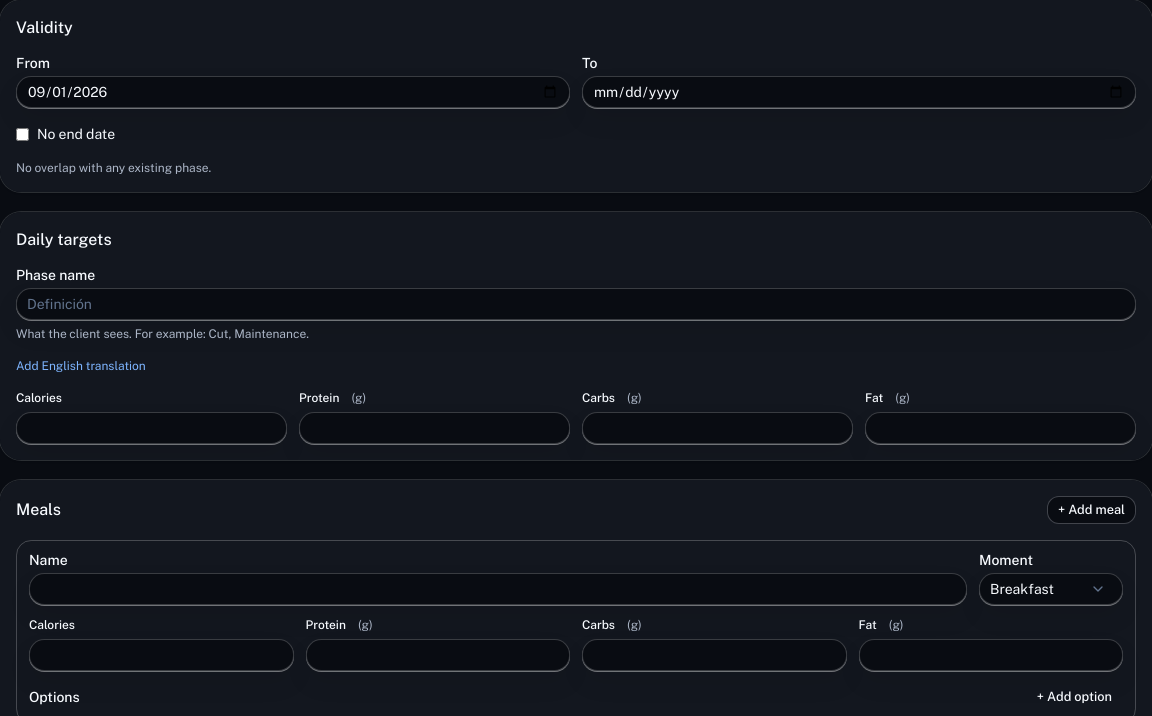
Scenario: AssignNutritionForm — macro kcal hint (#949) › adds up the macros with the 4/4/9 factors and flags a gap against the typed kcal
The width and height of the screenshot is (1152, 716).
Type "90" into the field labelled "Protein (g)" below "Phase name".
click(434, 428); type("90")  # box [299, 412, 570, 444]
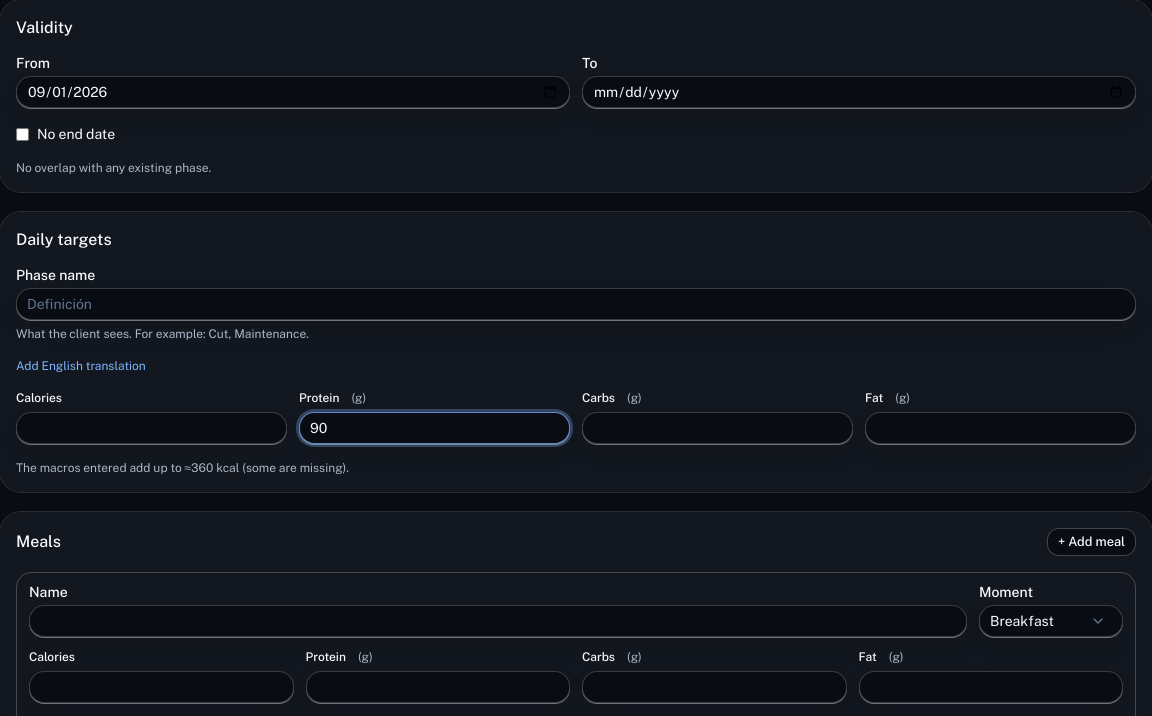
Type "280" into the 1st field labelled "Carbs (g)".
click(718, 428); type("280")  # box [582, 412, 853, 444]
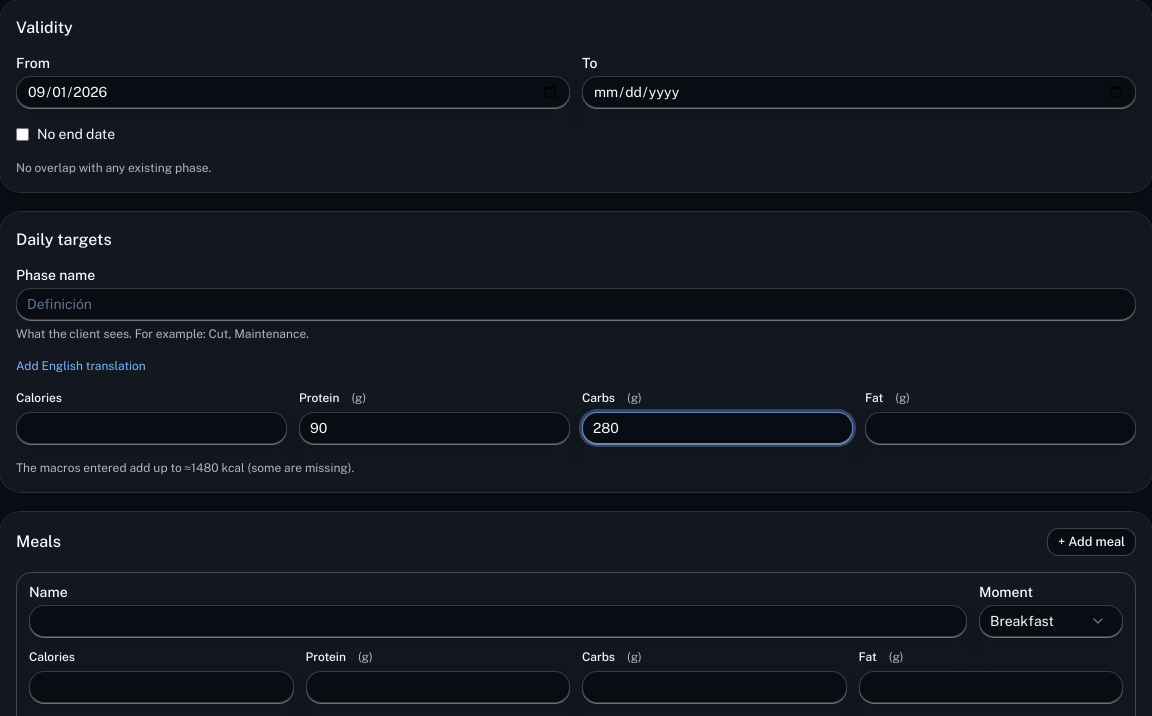
Type "100" into the 1st field labelled "Fat (g)".
click(1000, 428); type("100")  # box [865, 412, 1136, 444]
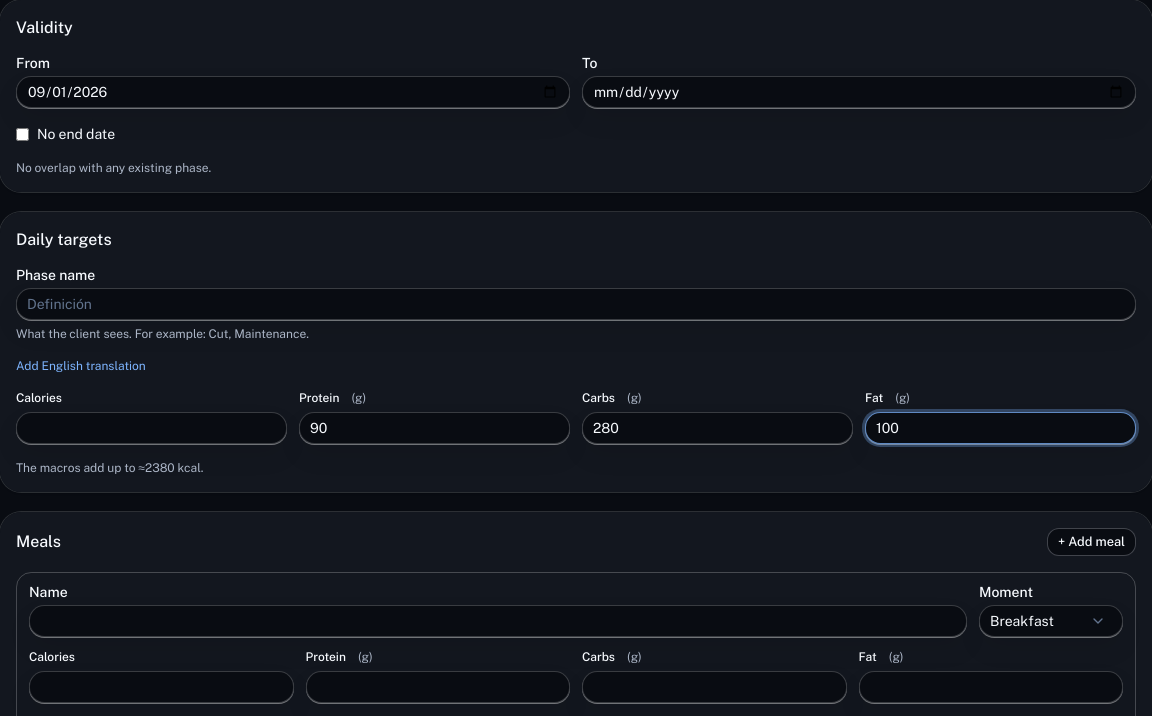
Expected: the text with test id "nutrition-daily-kcal-hint" shows "2380", [16, 461, 204, 475]
# 2 380 vs a typed 2 000 is 380 kcal apart — worth saying out loud.
Type "2000" into the field labelled "Calories" below "Phase name".
click(152, 428); type("2000")  # box [16, 412, 287, 444]
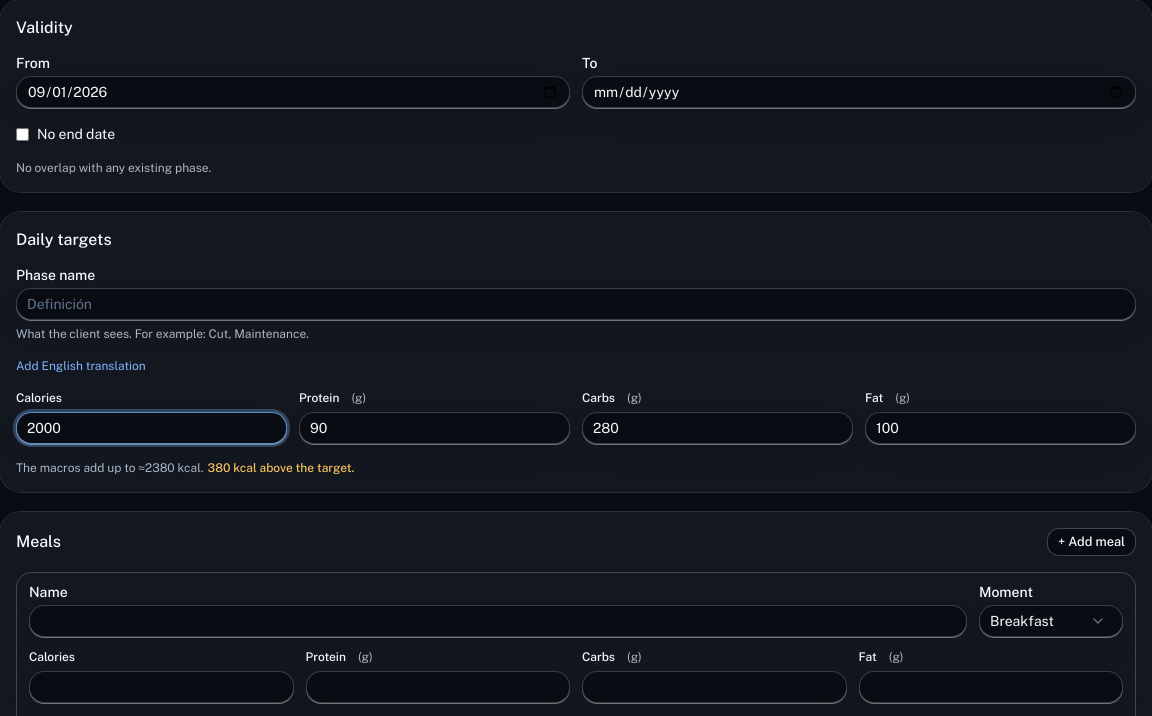
Expected: the text "380 kcal above the target." is shown, [208, 461, 354, 475]
